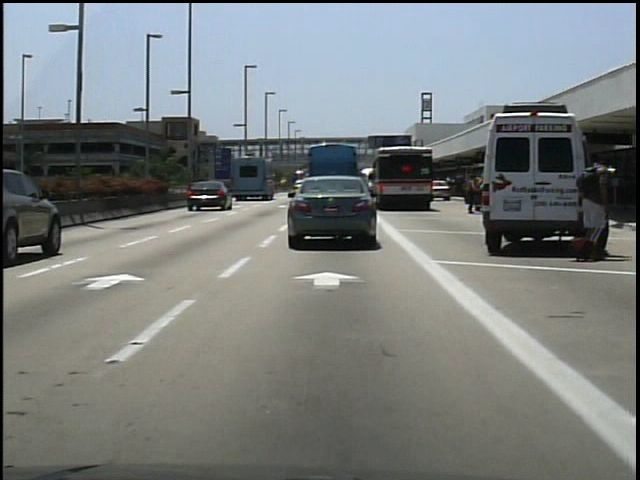person: (577, 151, 609, 265), (603, 166, 615, 252), (463, 172, 483, 219)
